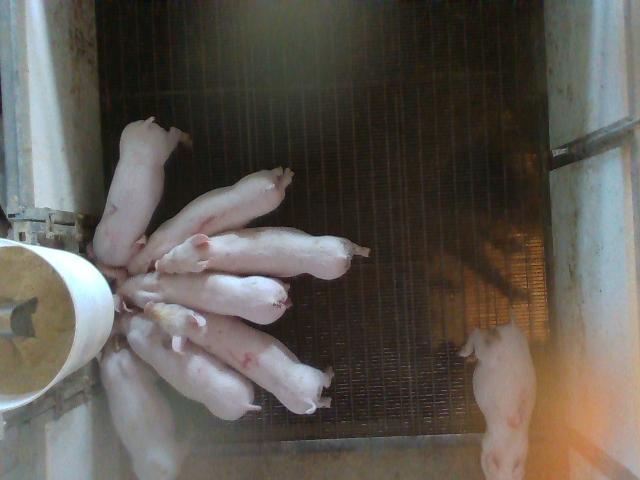pig-1: (129, 168, 294, 274)
pig-3: (465, 321, 536, 479)
pig-4: (145, 302, 334, 413)
